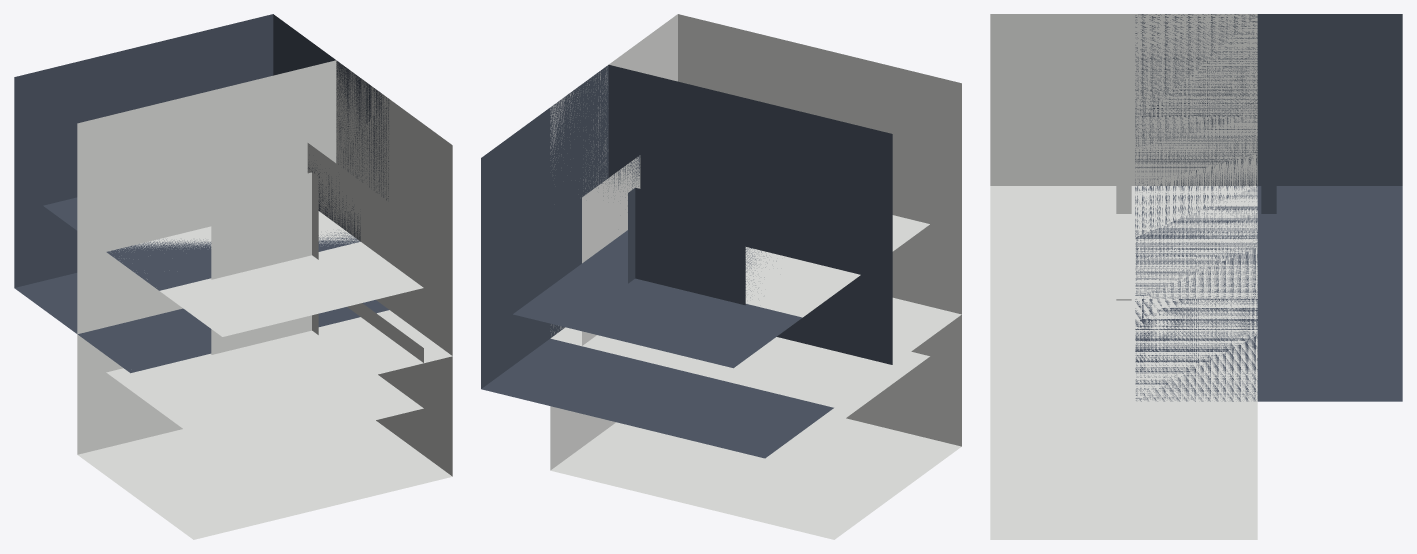
Rendered from camera.glb.
The picture shows the model from 3 angles, left to right: view 1: azimuth 30°, elevation 25°; view 2: azimuth 150°, elevation 25°; view 3: azimuth 270°, elevation 25°; orthographic projection. The views are drawn at different scales.
Bounding box in the file's own units: 0.9 × 1.1 × 1.08.
